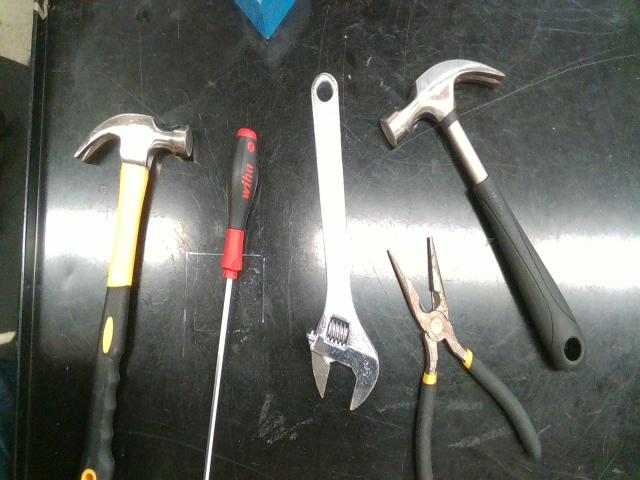Adjustable spanner: (306, 73, 379, 409)
Hammer: (381, 60, 585, 371), (75, 115, 192, 480)
Needle-nose pliers: (388, 237, 541, 480)
Screwdriver: (204, 128, 259, 479)
